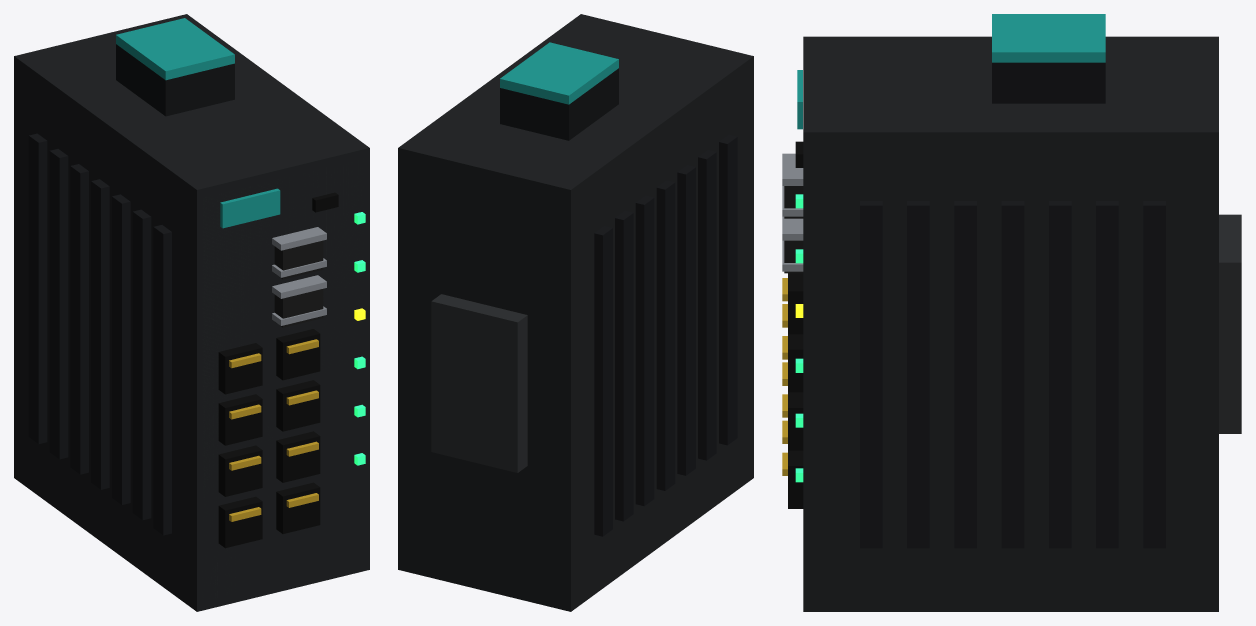
Rendered from 31-moxa-industrial-switch-dinrail.glb.
3 views of the same model, side by side, from view 1: azimuth 30°, elevation 25°; view 2: azimuth 150°, elevation 25°; view 3: azimuth 270°, elevation 25° (orthographic). The views are drawn at different scales.
Bounding box in the file's own units: 0.066 × 0.155 × 0.1215.
